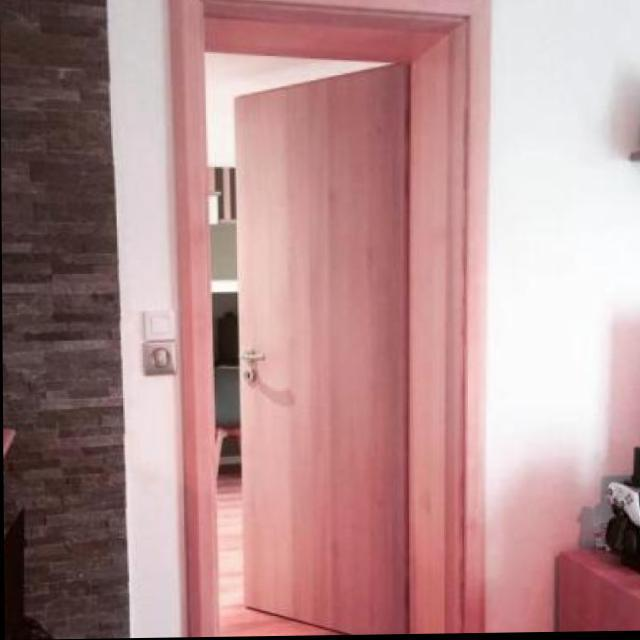door_handle: (238, 345, 273, 369)
